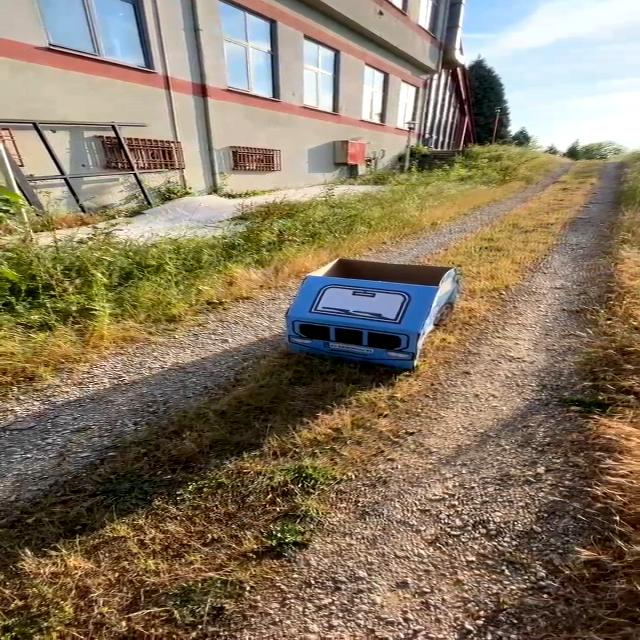blue_car: (222, 235, 499, 400)
